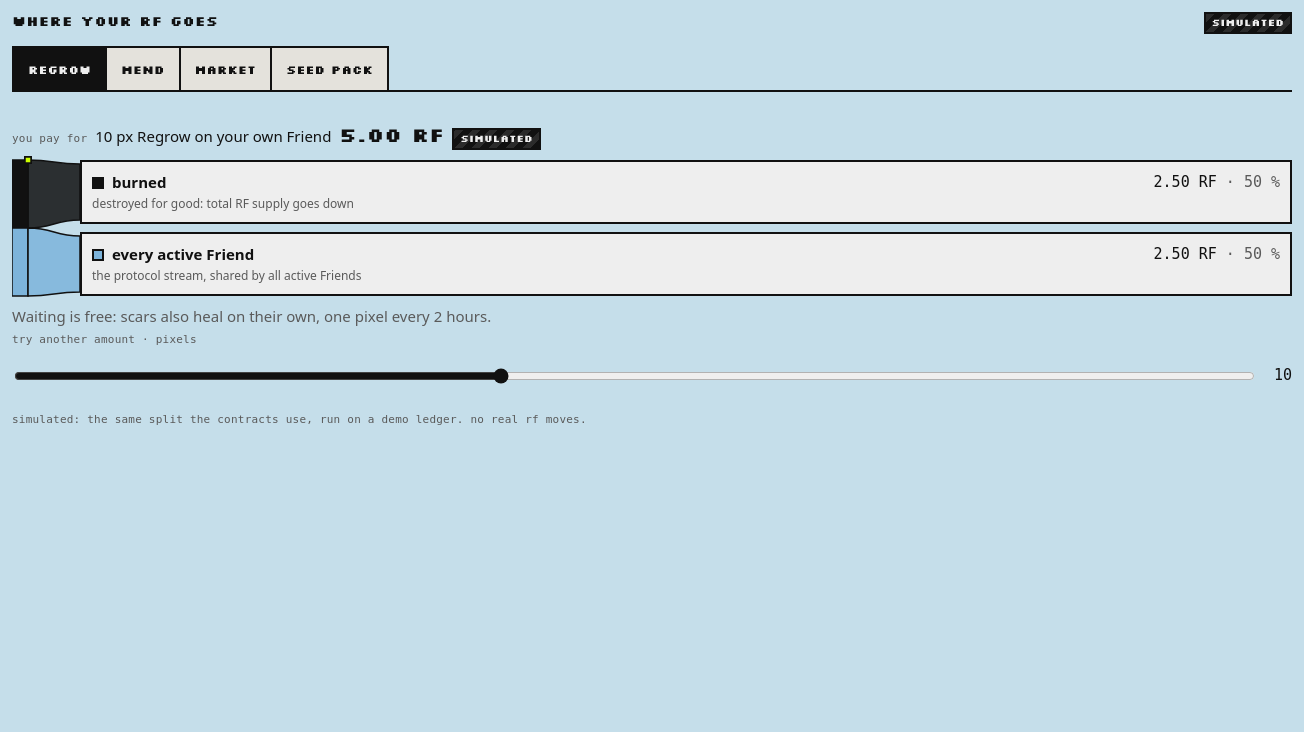
Test case: RfFlowExplainer › shows every flow with live numbers and the SIMULATED label
Check: the heading "Where your RF goes" is shown, box [12,14,218,29]
Check: the text "SIMULATED" in the row of "Where your RF goes" is shown, box [1212,16,1284,29]
Click the tab "Mend".
click(143, 68)  # box [105,46,180,90]
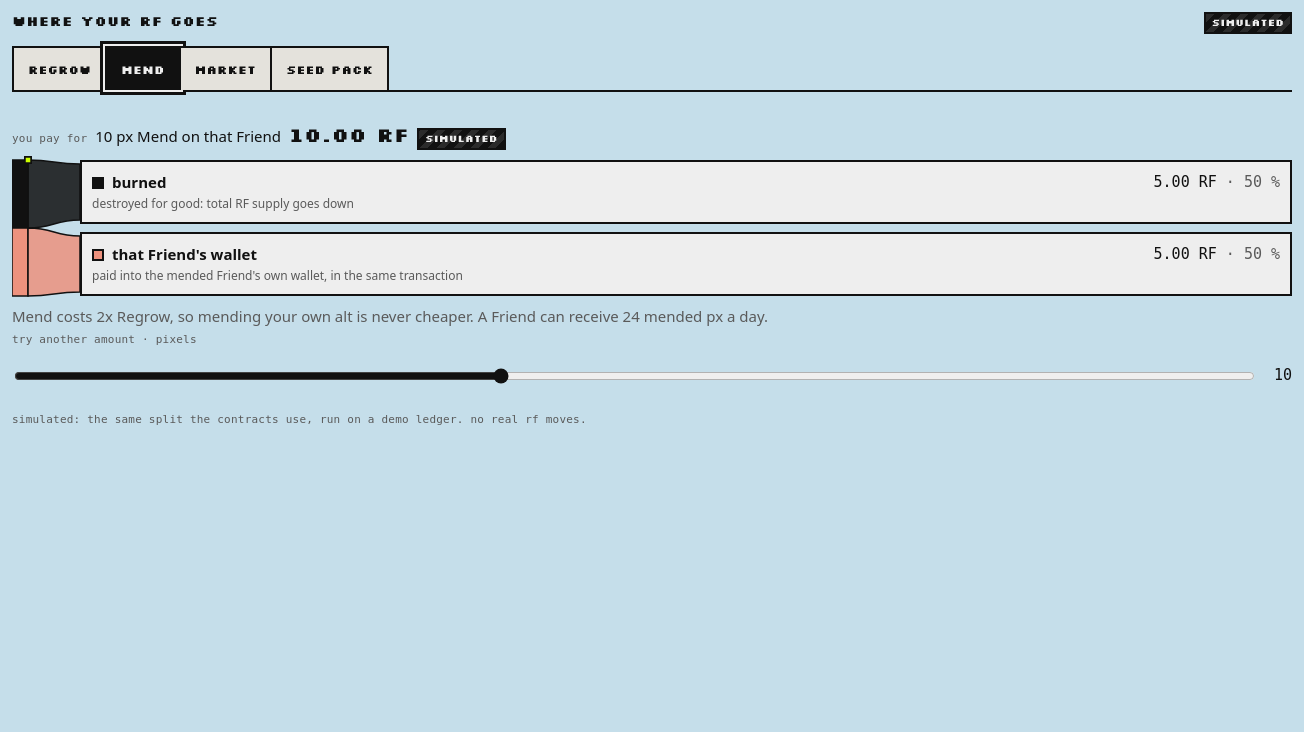
Check: the text "10.00 RF" is shown, box [289,120,409,149]
Check: the text "that Friend's wallet" is shown, box [112,244,257,266]
Click the tab "Market".
click(225, 68)  # box [178,46,272,90]
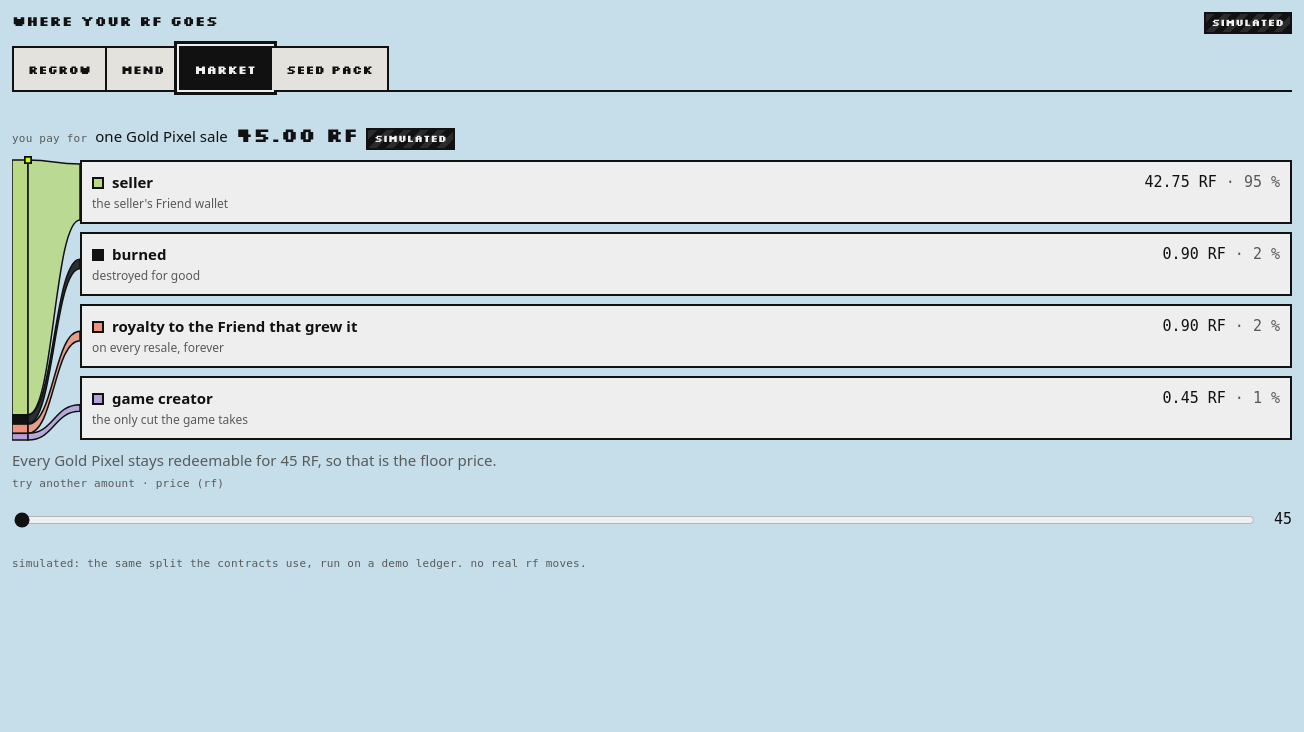
Check: the text "royalty to the Friend that grew it" is shown, box [112,316,357,338]
Check: the text "game creator" is shown, box [112,388,213,410]
Click the tab "Seed Pack".
click(330, 68)  # box [270,46,389,90]
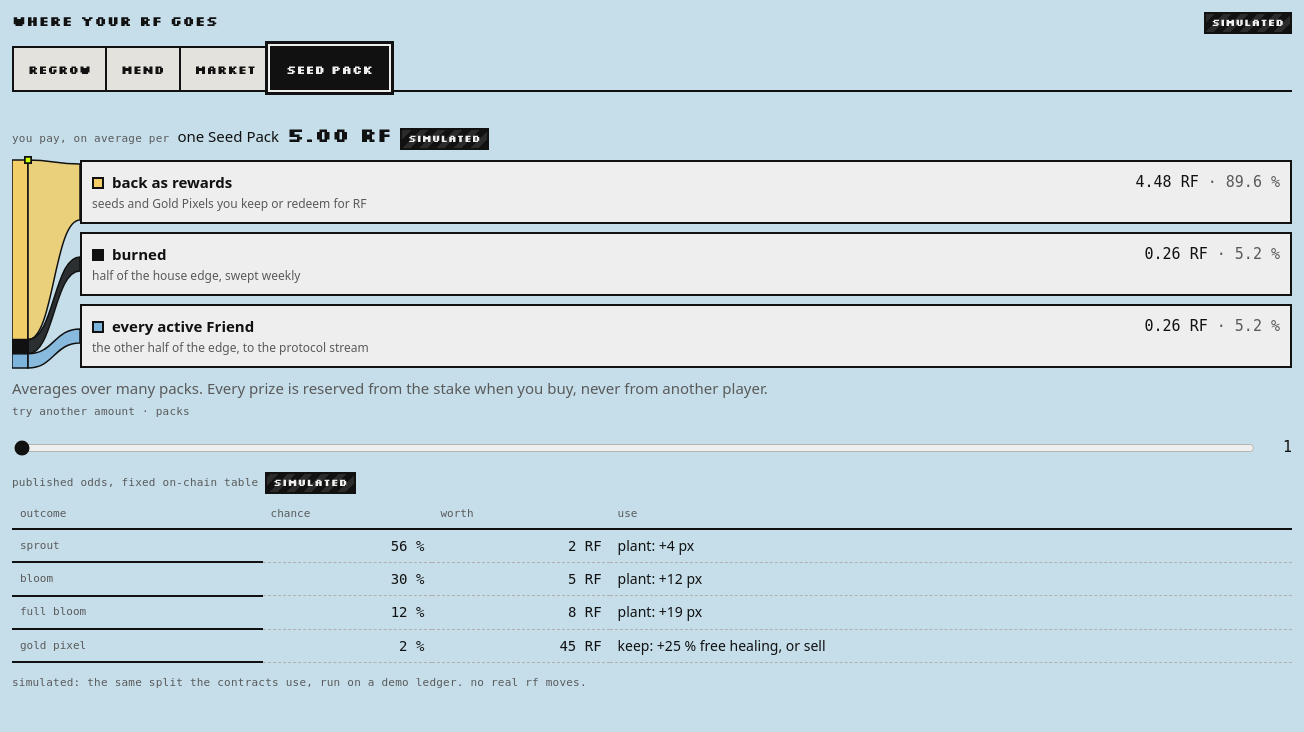
Check: the column heading "Gold Pixel" is shown, box [12,629,262,662]
Check: the text "back as rewards" is shown, box [112,172,232,194]
Check: the table is shown, box [12,472,1292,663]
